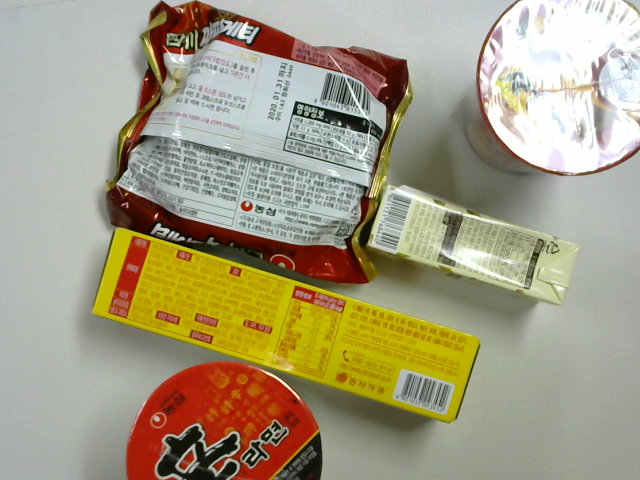99.89_Soymilk: (359, 184, 585, 308)
Raccoon: (477, 2, 640, 177)
Ritz_Remon_96g: (89, 230, 479, 430)
Sichuan_Chapaghetti: (101, 1, 415, 284)
Sinramen_small: (123, 360, 327, 480)
